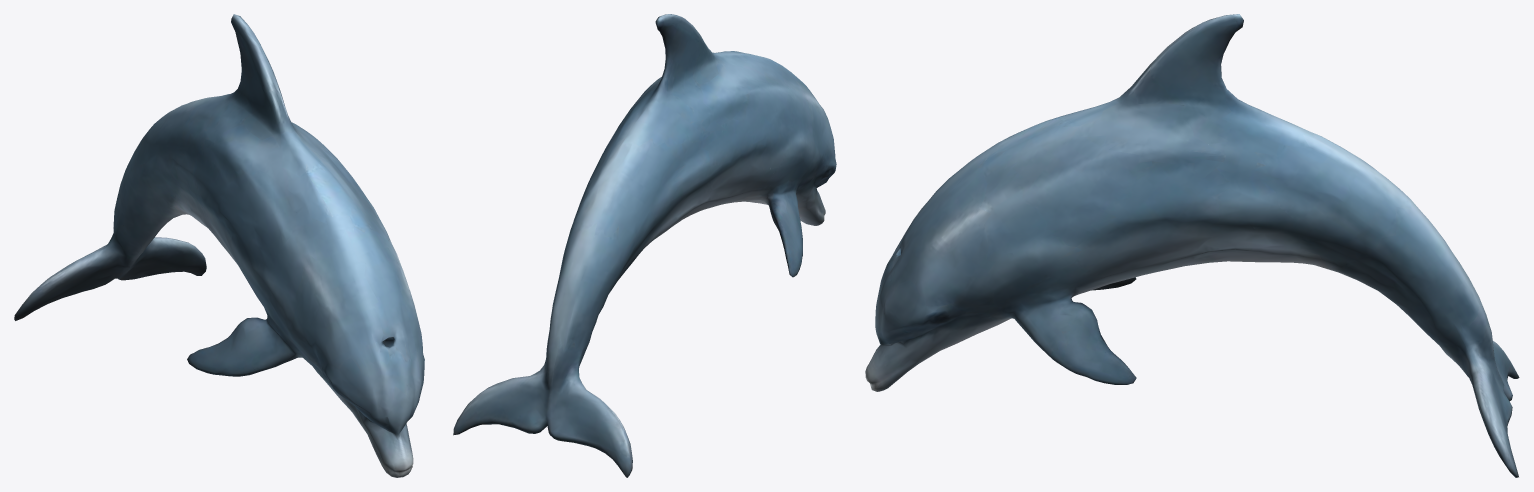
The model's file is dolphin_3d.glb.
The picture shows the model from 3 angles, left to right: view 1: azimuth 30°, elevation 25°; view 2: azimuth 150°, elevation 25°; view 3: azimuth 270°, elevation 25°; orthographic projection. The views are drawn at different scales.
Parts seen in each view (by area): view 1: tripo_node_587c83fc-85ba-4d94-a3af-a267dcc19603; view 2: tripo_node_587c83fc-85ba-4d94-a3af-a267dcc19603; view 3: tripo_node_587c83fc-85ba-4d94-a3af-a267dcc19603.
Part boxes in pixels (x1,y1,x2,y2): tripo_node_587c83fc-85ba-4d94-a3af-a267dcc19603: (14,14,424,477); tripo_node_587c83fc-85ba-4d94-a3af-a267dcc19603: (453,14,836,477); tripo_node_587c83fc-85ba-4d94-a3af-a267dcc19603: (865,14,1519,477).
Bounding box in the file's own units: 0.3692 × 0.6986 × 1.
Materials: 1 (1 with a texture image).
